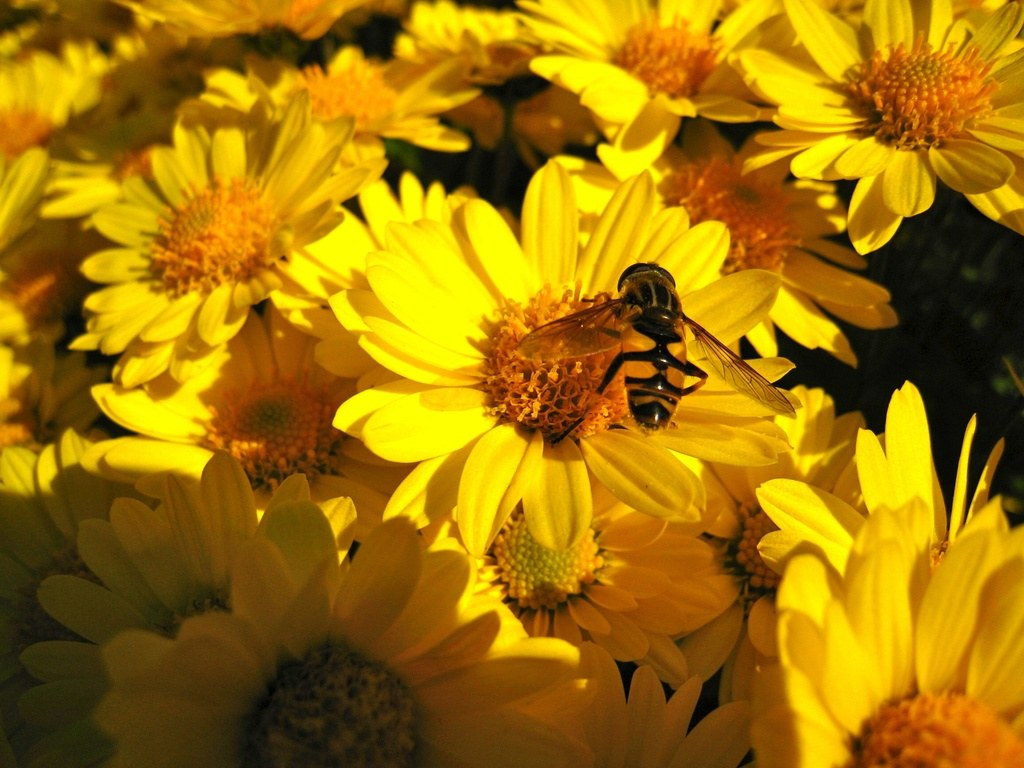bee: (494, 267, 785, 448)
insect: (0, 1, 1023, 767), (768, 3, 1018, 243)
